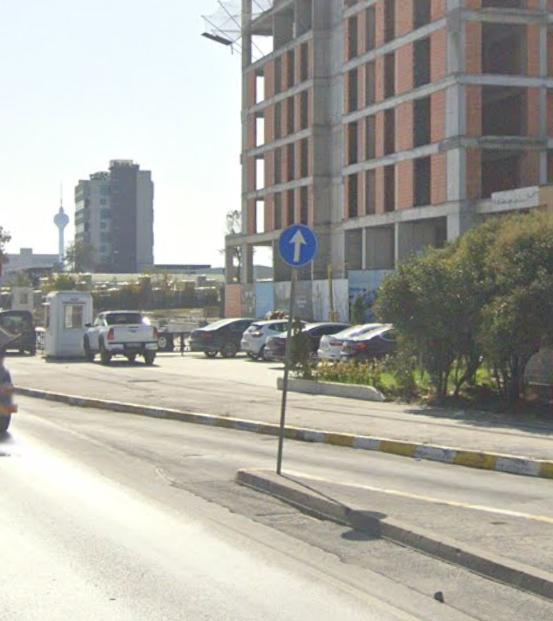forward: (276, 222, 321, 270)
